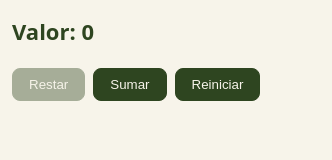
Test: Contador › suma 1 al hacer clic en Sumar
Click the button "Sumar": [130, 84] box [93,68,167,101]
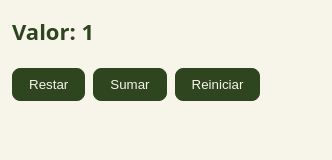
expect the text "Valor: 1" is shown: met, box [12,16,94,46]
